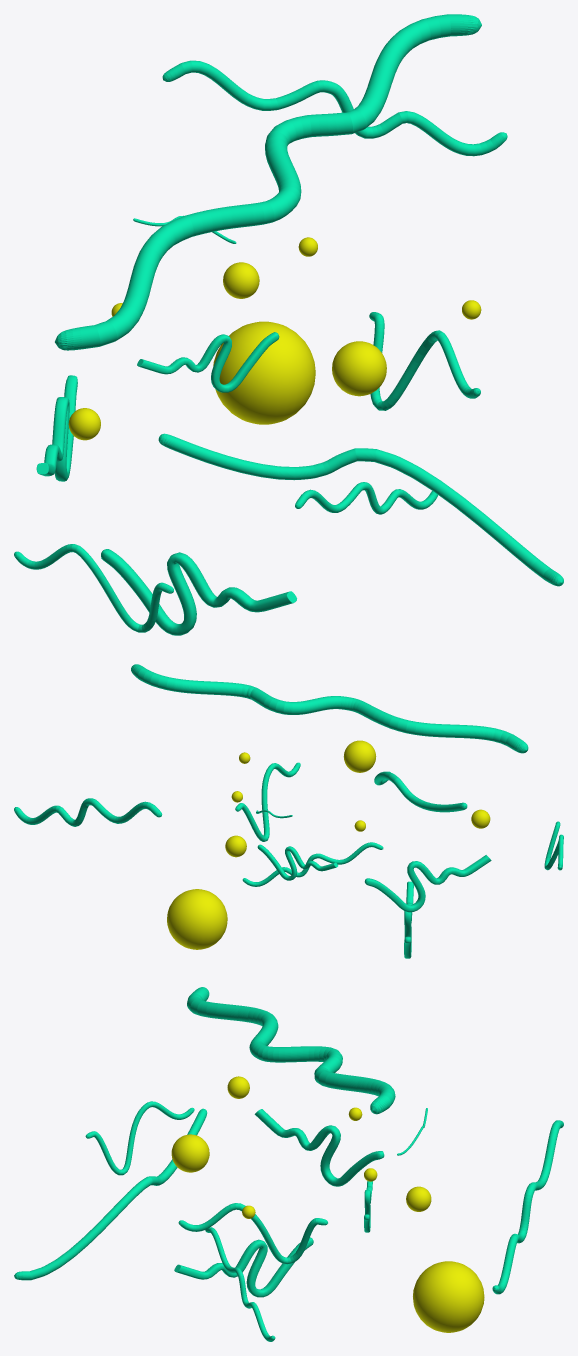
Rendered from Rad.glb.
The picture shows the model from 3 angles, top to bottom: view 1: azimuth 30°, elevation 25°; view 2: azimuth 150°, elevation 25°; view 3: azimuth 270°, elevation 25°; orthographic projection. The views are drawn at different scales.
Parts seen in each view (by area): view 1: Cylinder.007, Sphere.006, Cylinder.004, Cylinder.001, Cube.002, Sphere.004, Cylinder.002, Cube, Cube.001, Cylinder.006, Cylinder.005, Sphere (+1 smaller); view 2: Cylinder.007, Sphere.006, Cube.001, Cylinder.001, Cylinder.002, Cylinder.004, Sphere.004, Cube, Cylinder.005, Cylinder.006, Cube.002, Sphere; view 3: Cylinder.007, Sphere.006, Cylinder.004, Cube.001, Cube.002, Cylinder.001, Cylinder.002, Sphere.004, Cylinder.006, Cylinder.005, Sphere.
Boxes of the visible parts, x1,y1,x2,y2 form: Cylinder.007: (55, 14, 481, 350); Sphere.006: (213, 321, 315, 424); Cylinder.004: (158, 433, 563, 586); Cylinder.001: (162, 60, 507, 156); Cube.002: (101, 549, 296, 635); Sphere.004: (332, 341, 386, 396); Cylinder.002: (369, 312, 480, 410); Cube: (137, 332, 279, 392); Cube.001: (36, 375, 77, 481); Cylinder.006: (14, 544, 173, 632); Cylinder.005: (295, 482, 438, 514); Sphere: (223, 262, 259, 298); Cylinder.007: (131, 664, 528, 753); Sphere.006: (167, 889, 227, 949); Cube.001: (364, 855, 491, 912); Cylinder.001: (14, 798, 162, 826); Cylinder.002: (235, 762, 300, 841); Cylinder.004: (374, 771, 467, 812); Sphere.004: (343, 740, 376, 772); Cube: (257, 844, 338, 880); Cylinder.005: (242, 842, 383, 886); Cylinder.006: (544, 821, 563, 870); Cube.002: (404, 881, 413, 958); Sphere: (225, 835, 246, 857); Cylinder.007: (187, 987, 395, 1114); Sphere.006: (413, 1261, 484, 1332); Cylinder.004: (14, 1108, 207, 1280); Cube.001: (254, 1109, 384, 1186); Cube.002: (174, 1237, 313, 1297); Cylinder.001: (492, 1120, 563, 1294); Cylinder.002: (178, 1203, 327, 1264); Sphere.004: (171, 1134, 209, 1172); Cylinder.006: (85, 1101, 194, 1175); Cylinder.005: (205, 1227, 275, 1341); Sphere: (406, 1186, 431, 1211).
Size of the model in its own units: 149 by 93.47 by 144.
